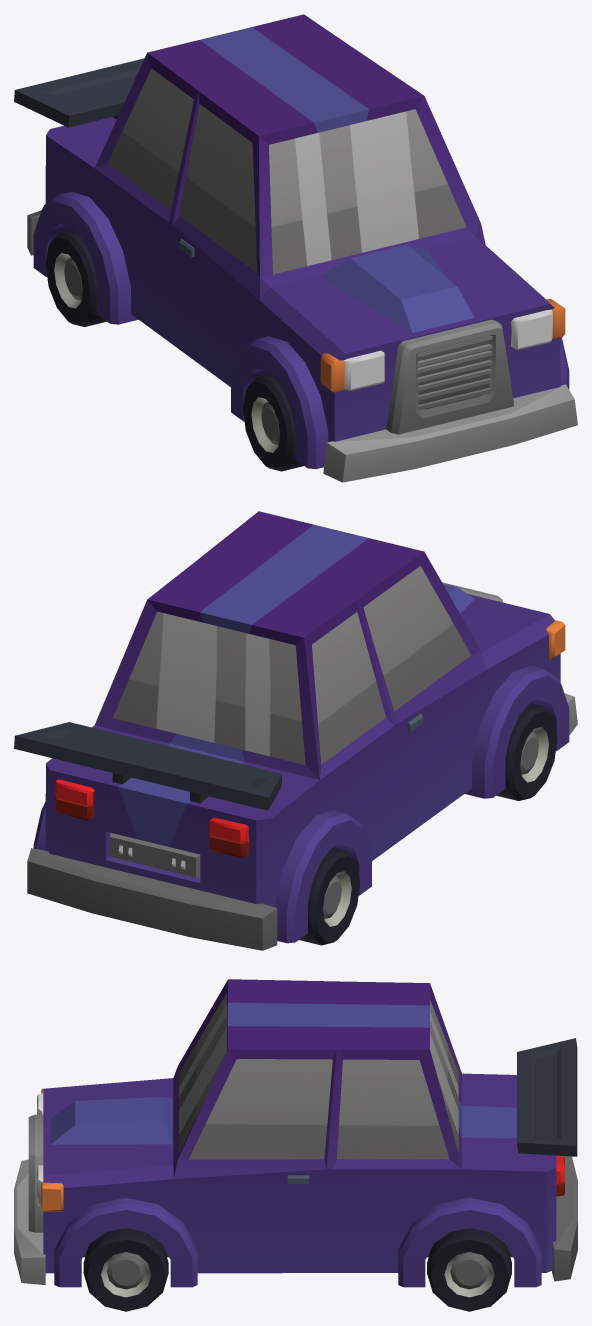
Rendered from SportCar_18.fbx.
3 renders of one model, top to bottom at view 1: azimuth 30°, elevation 25°; view 2: azimuth 150°, elevation 25°; view 3: azimuth 270°, elevation 25°, orthographic. The views are drawn at different scales.
Parts seen in each view (by area): view 1: SportCar_18, Wheel_fr, Wheel_br; view 2: SportCar_18, Wheel_br, Wheel_fr; view 3: SportCar_18, Wheel_fl, Wheel_bl.
Boxes of the visible parts, bbox=[...] form: SportCar_18: bbox=[14, 14, 577, 482]; Wheel_fr: bbox=[243, 373, 303, 471]; Wheel_br: bbox=[45, 229, 106, 326]; SportCar_18: bbox=[14, 511, 577, 950]; Wheel_br: bbox=[299, 847, 360, 945]; Wheel_fr: bbox=[496, 703, 557, 800]; SportCar_18: bbox=[14, 979, 577, 1287]; Wheel_fl: bbox=[83, 1228, 168, 1311]; Wheel_bl: bbox=[427, 1228, 511, 1311].
Size of the model in its own units: 112 by 110 by 233.
